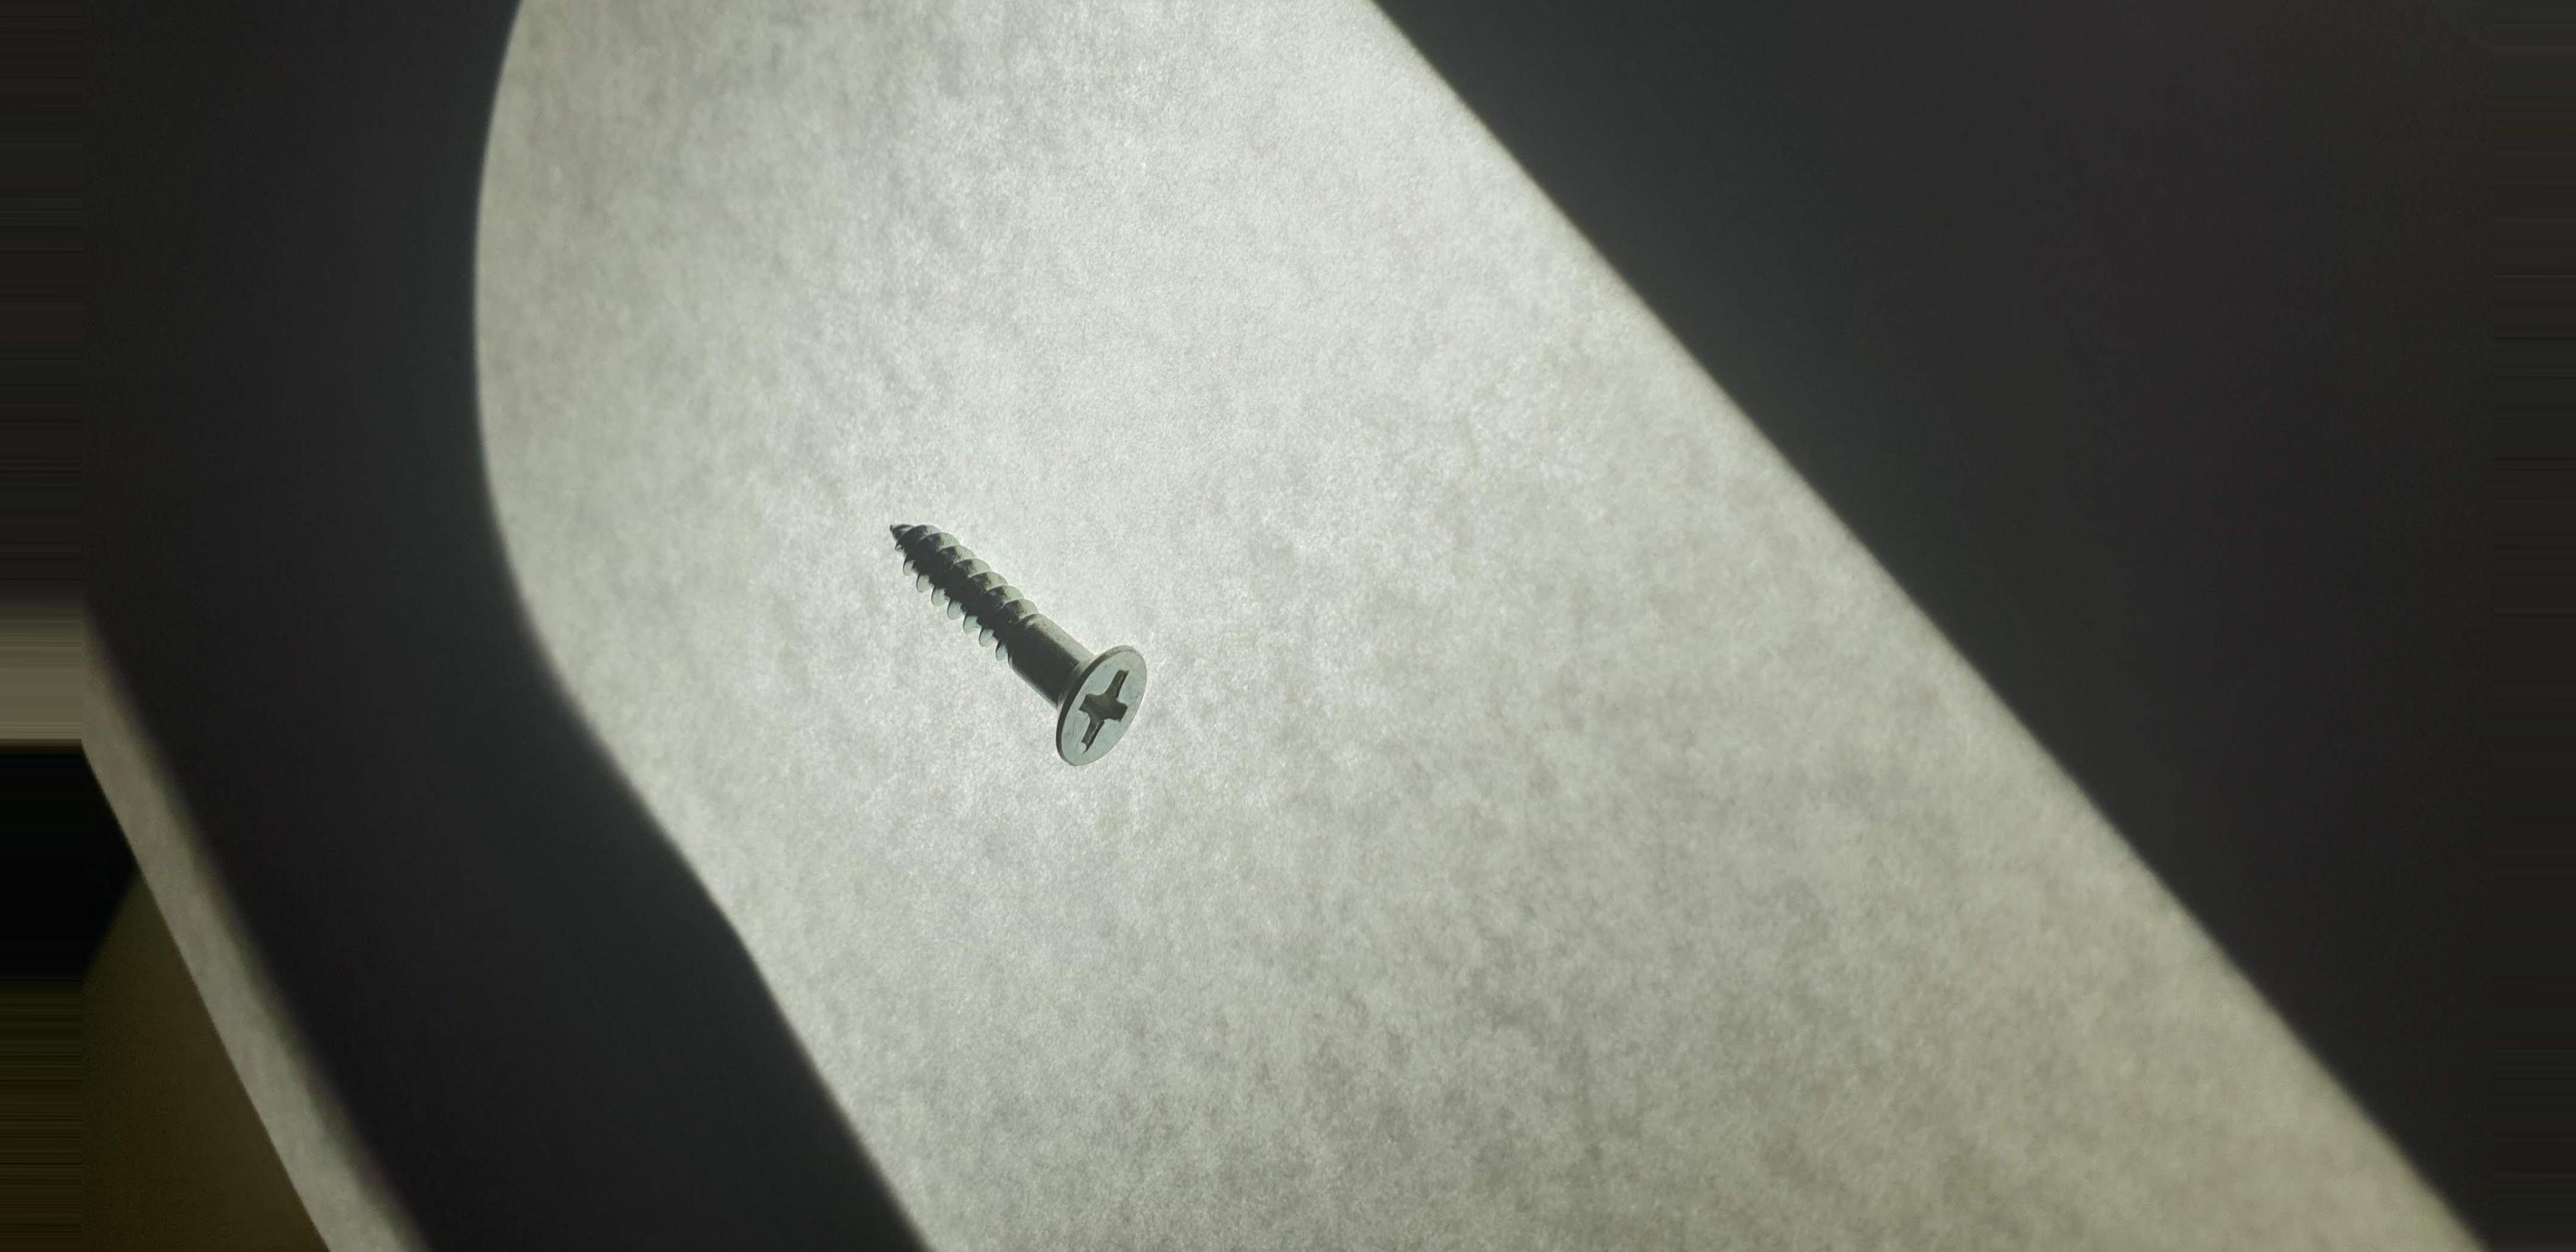S005: (854, 470, 1221, 800)
